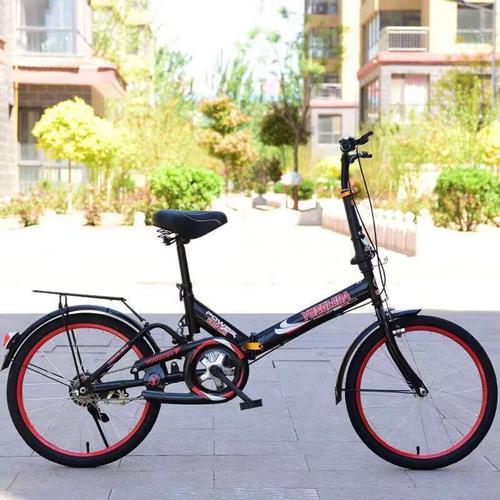单车: (3, 121, 500, 490)
